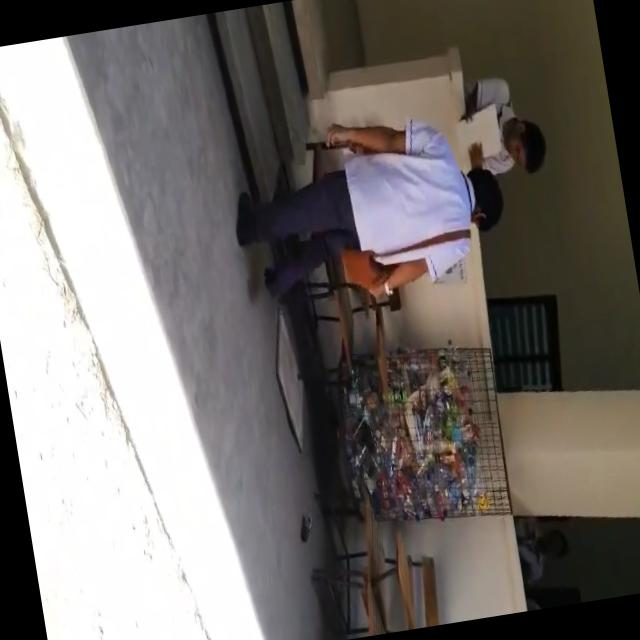Bottle: (299, 515, 312, 543)
